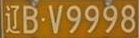B: (23, 5, 38, 33)
